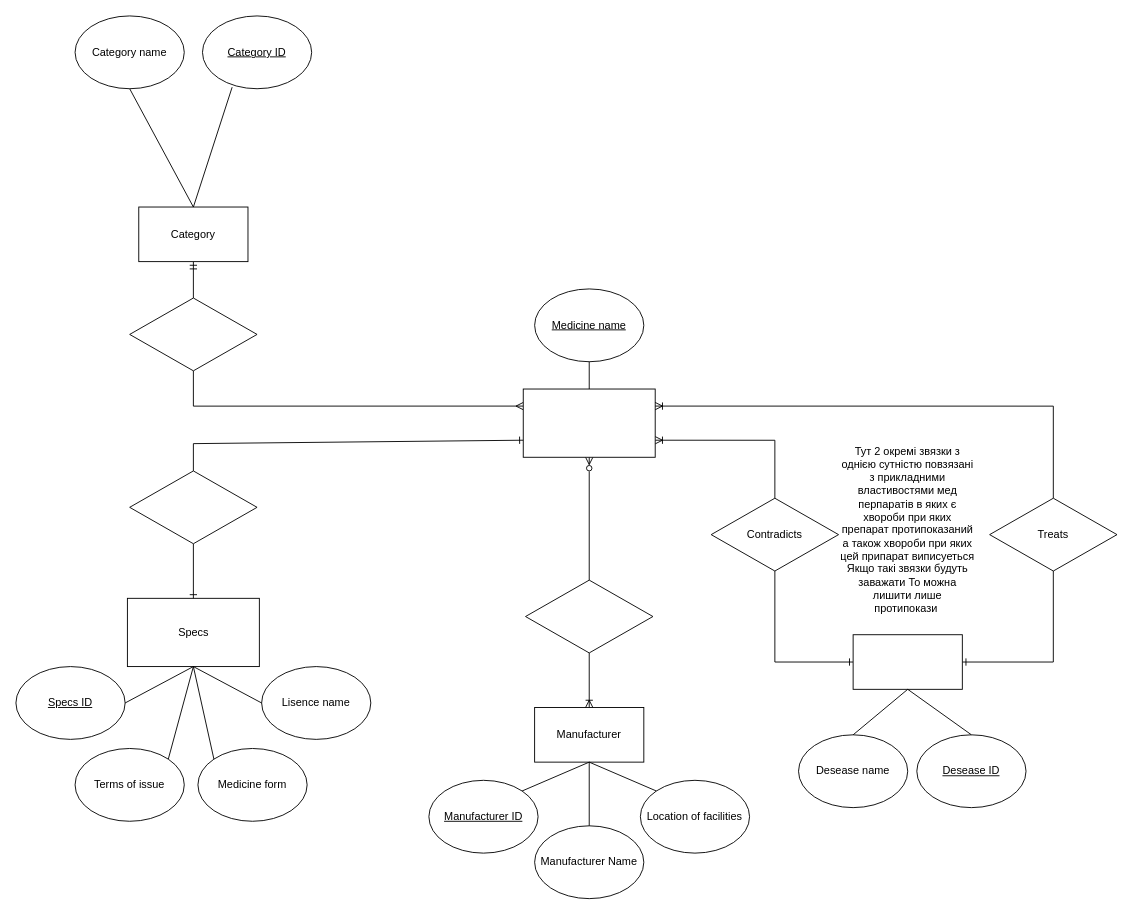
Some shapes in this 1133 by 915 pixel diagram are drawn without their labels. Here are the shapes that lost their labels. From the top down, the centre of each, then its label:
At (193,334): "Belongs to".
At (588,422): "Medicine".
At (193,507): "Has".
At (589,616): "Made by".
At (907,661): "Desease".
